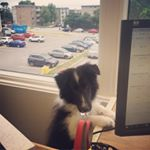puppy: (43, 61, 105, 150)
